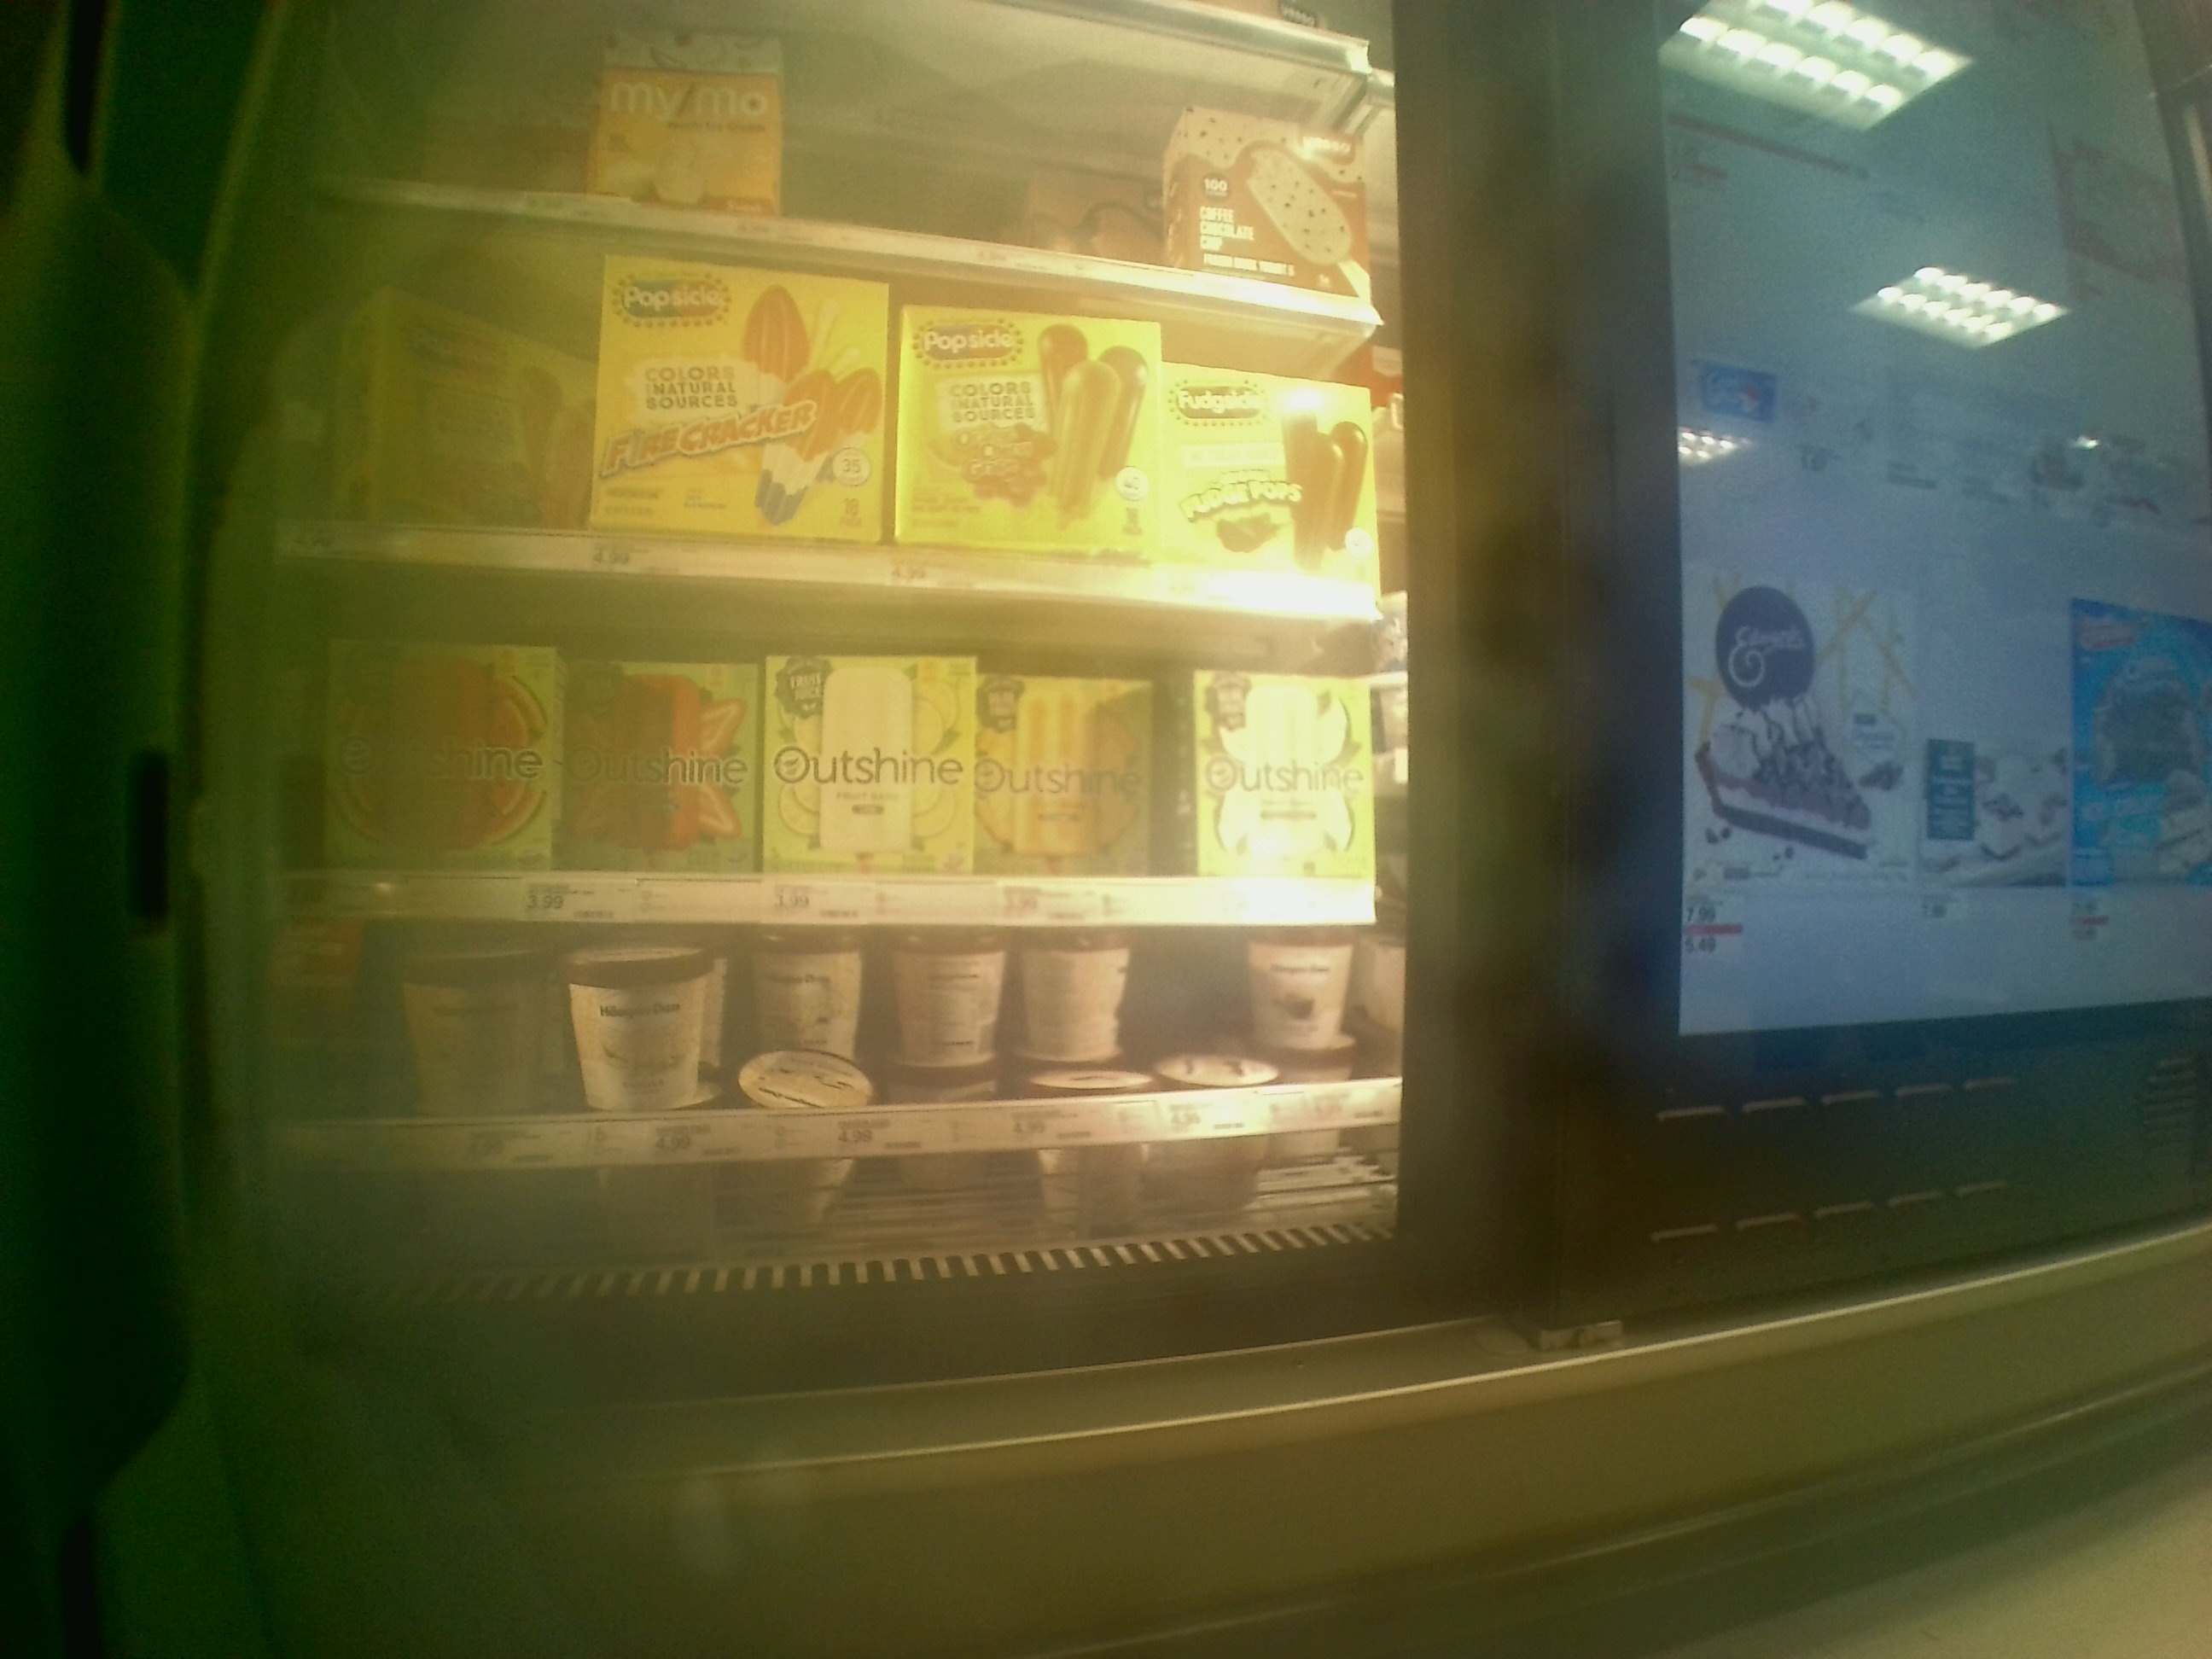ice-cream-shelf: (240, 551, 1383, 924)
